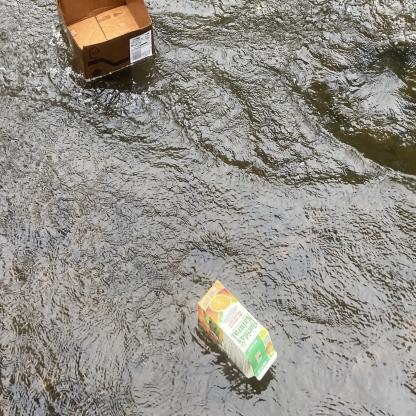trash: (196, 278, 281, 390), (54, 0, 160, 85)
